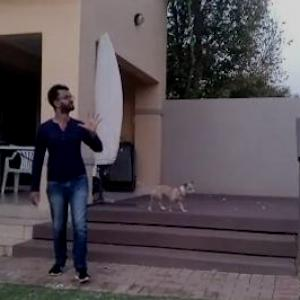follow_hand: (77, 105, 107, 135)
